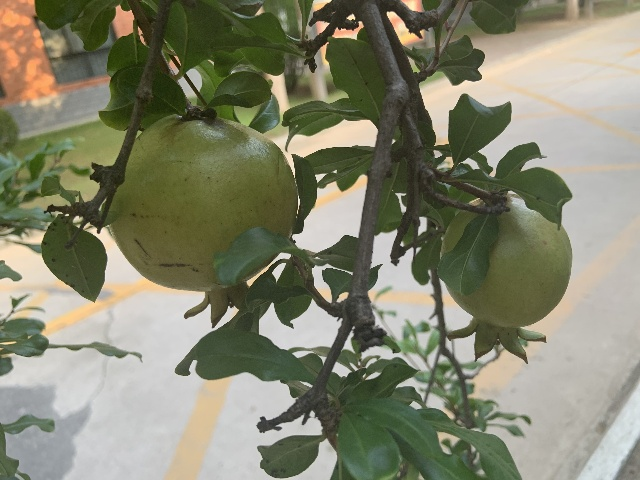mid-growth: (108, 116, 297, 326), (441, 195, 573, 365)
